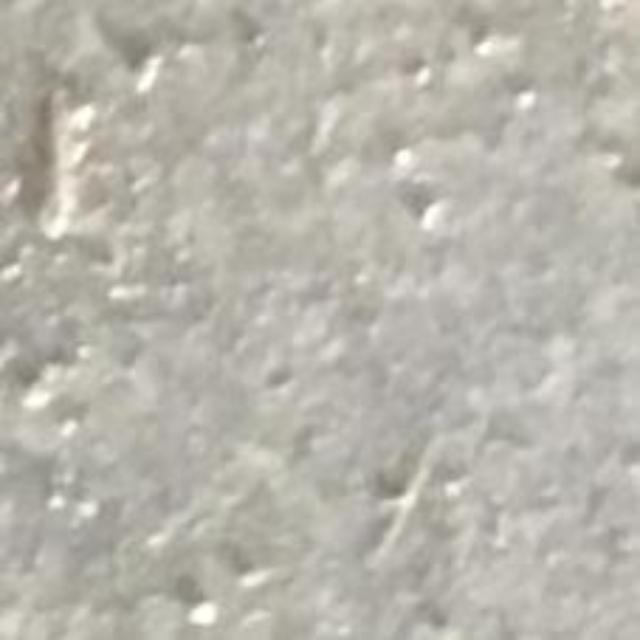peeling plaster: (17, 65, 81, 239)
